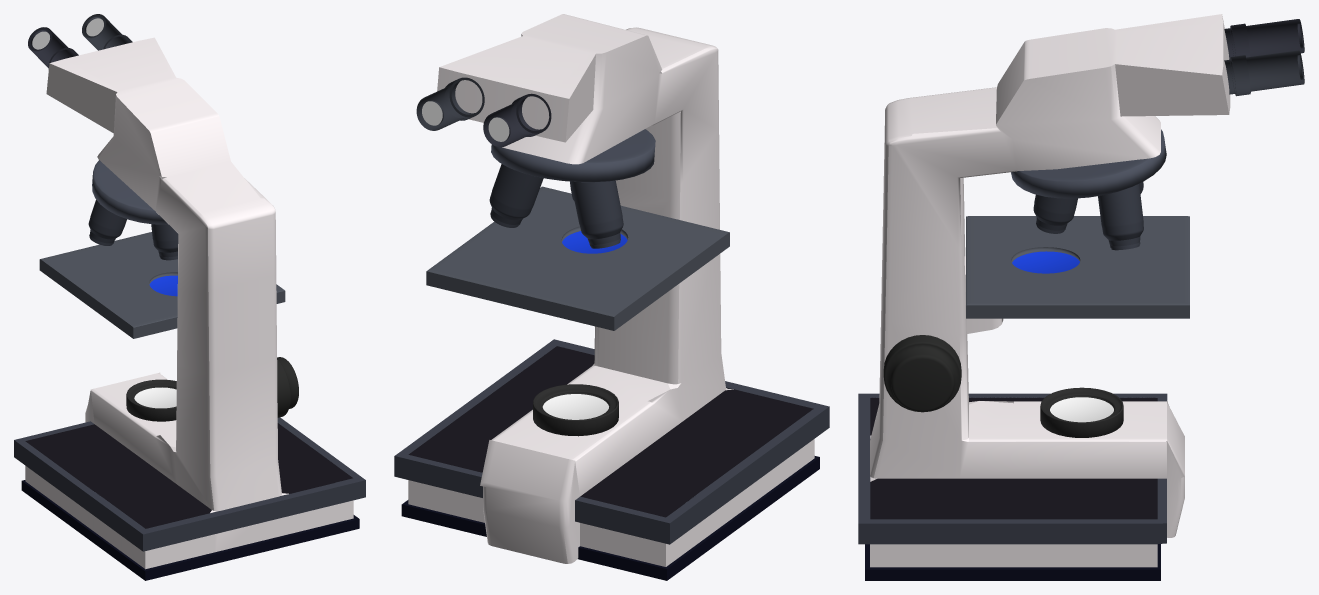
The model's file is microscope.glb.
3 views of the same model, side by side, from view 1: azimuth 30°, elevation 25°; view 2: azimuth 150°, elevation 25°; view 3: azimuth 270°, elevation 25° (orthographic). The views are drawn at different scales.
Visible parts, largest first — view 1: Cube_0; view 2: Cube_0; view 3: Cube_0.
Boxes of the visible parts, x1=… form: Cube_0: x1=14, y1=14, x2=365, y2=580; Cube_0: x1=394, y1=14, x2=829, y2=580; Cube_0: x1=858, y1=14, x2=1304, y2=580.
Size of the model in its own units: 6.11 by 10.54 by 8.86.
